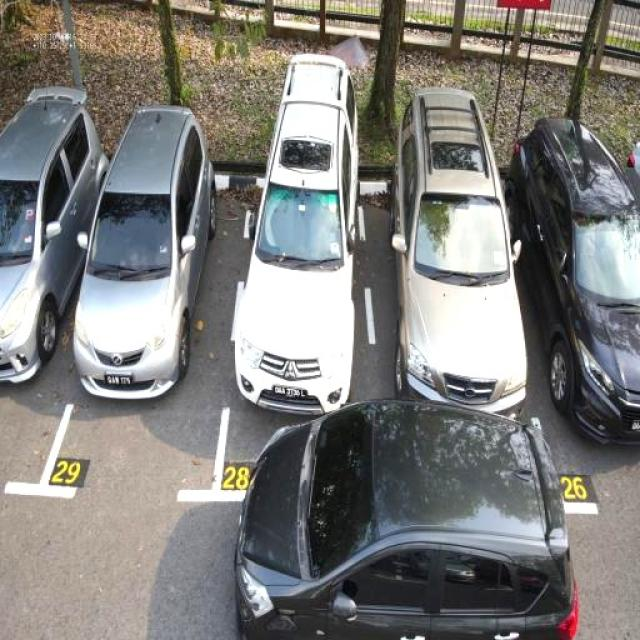Legalparking: (391, 89, 526, 416), (235, 55, 358, 412), (508, 118, 639, 442), (74, 106, 218, 398), (0, 89, 108, 381)
illegalparking: (234, 400, 578, 639)
